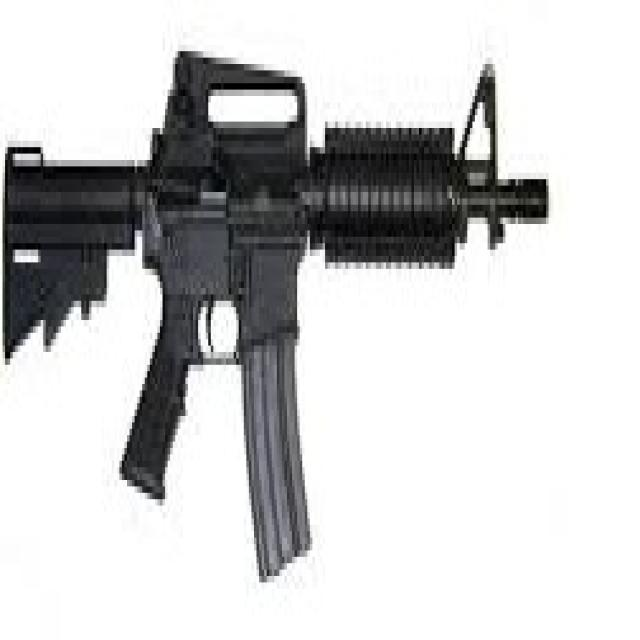rifle: (1, 26, 555, 604)
